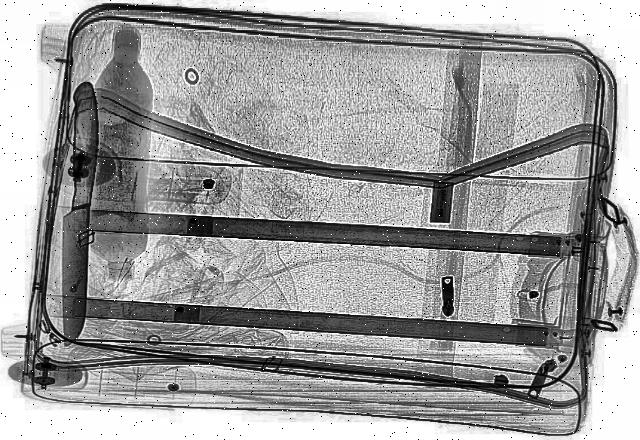Knife: (53, 80, 105, 342)
